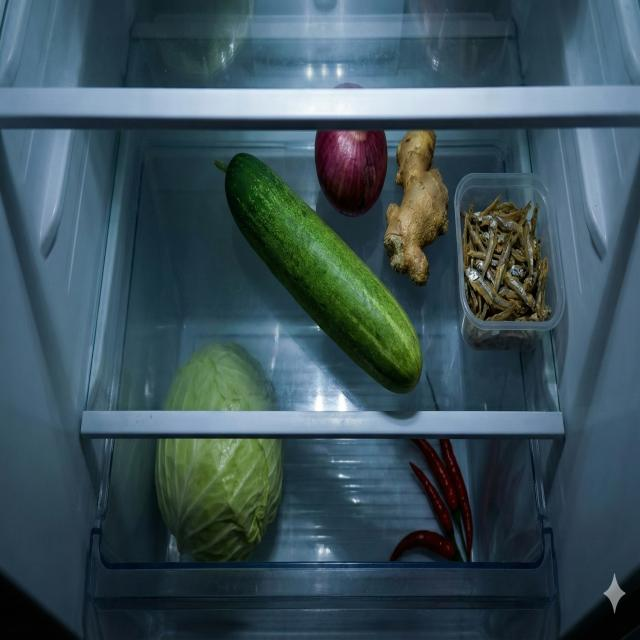anchovies: (461, 193, 552, 349)
cabbage: (154, 337, 284, 566)
chili: (390, 432, 474, 567)
cucumber: (213, 148, 424, 395)
ginger: (383, 126, 448, 291)
onion: (314, 124, 388, 218)
